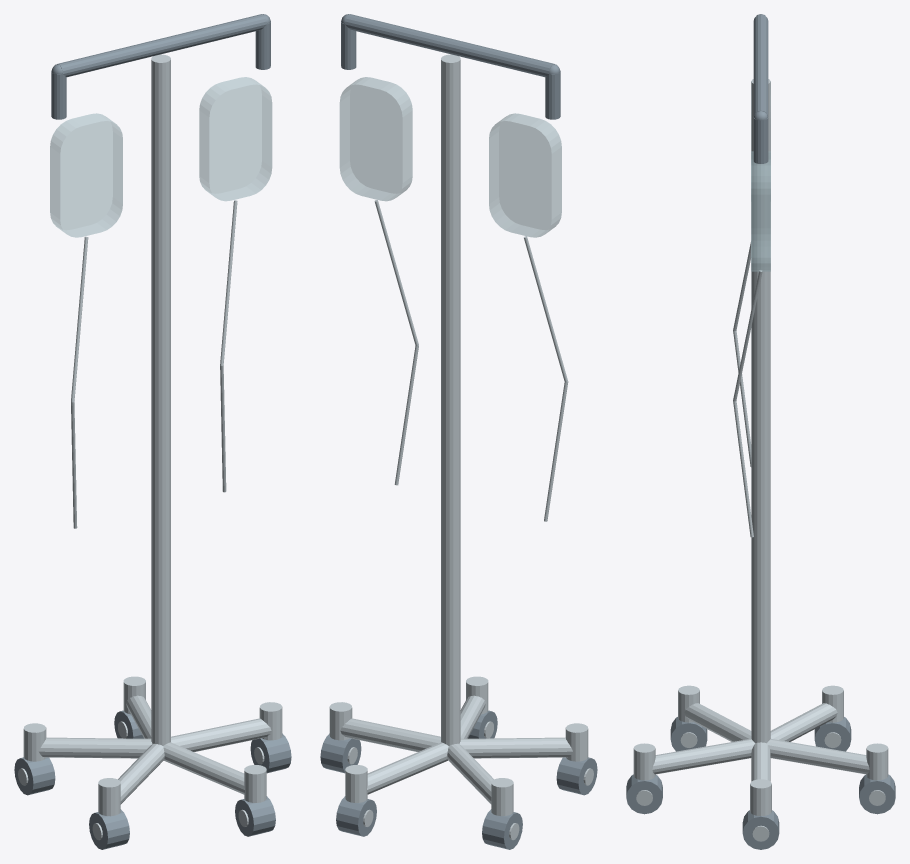
File: hospital_iv_stand.glb
3 views of the same model, side by side, from view 1: azimuth 30°, elevation 25°; view 2: azimuth 150°, elevation 25°; view 3: azimuth 270°, elevation 25° (orthographic). The views are drawn at different scales.
Visible parts, largest first — view 1: decor_9aadb8_metal, decor_88b9ca_glass, decor_455665_metal; view 2: decor_9aadb8_metal, decor_88b9ca_glass, decor_455665_metal; view 3: decor_9aadb8_metal, decor_455665_metal, decor_88b9ca_glass.
Boxes of the visible parts, x1,y1,x2,y2 form: decor_9aadb8_metal: (18, 54, 282, 840); decor_88b9ca_glass: (50, 77, 272, 237); decor_455665_metal: (14, 14, 291, 849); decor_9aadb8_metal: (329, 54, 593, 840); decor_88b9ca_glass: (339, 77, 561, 237); decor_455665_metal: (320, 14, 597, 849); decor_9aadb8_metal: (633, 79, 888, 841); decor_455665_metal: (626, 14, 895, 849); decor_88b9ca_glass: (751, 81, 770, 271).
Size of the model in its own units: 0.589 by 1.84 by 0.6166.
